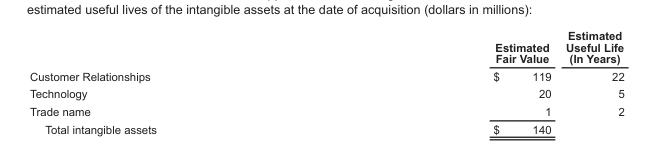table: (29, 28, 623, 135)
table column: (29, 28, 324, 135), (324, 28, 557, 135), (557, 28, 623, 135)
table column header: (29, 28, 623, 66)
table row: (29, 28, 623, 66), (29, 66, 623, 84), (29, 84, 623, 102), (29, 102, 623, 119), (29, 119, 623, 135)
